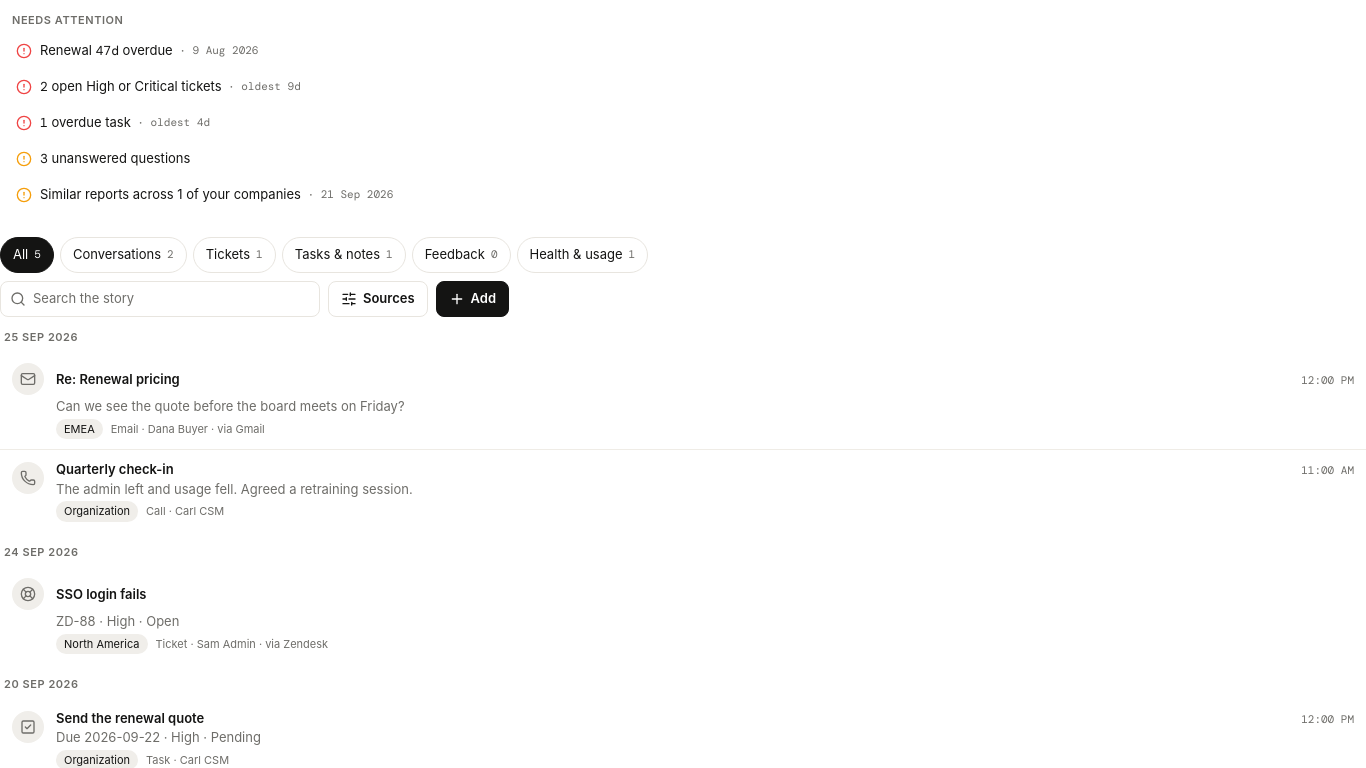
it: StoryTab (spec §1.6) › adds on the chosen account, closes the sheet, and says so
Click the button with aria-label "Add to the story" at x=472, y=298, box [436,280,509,316]
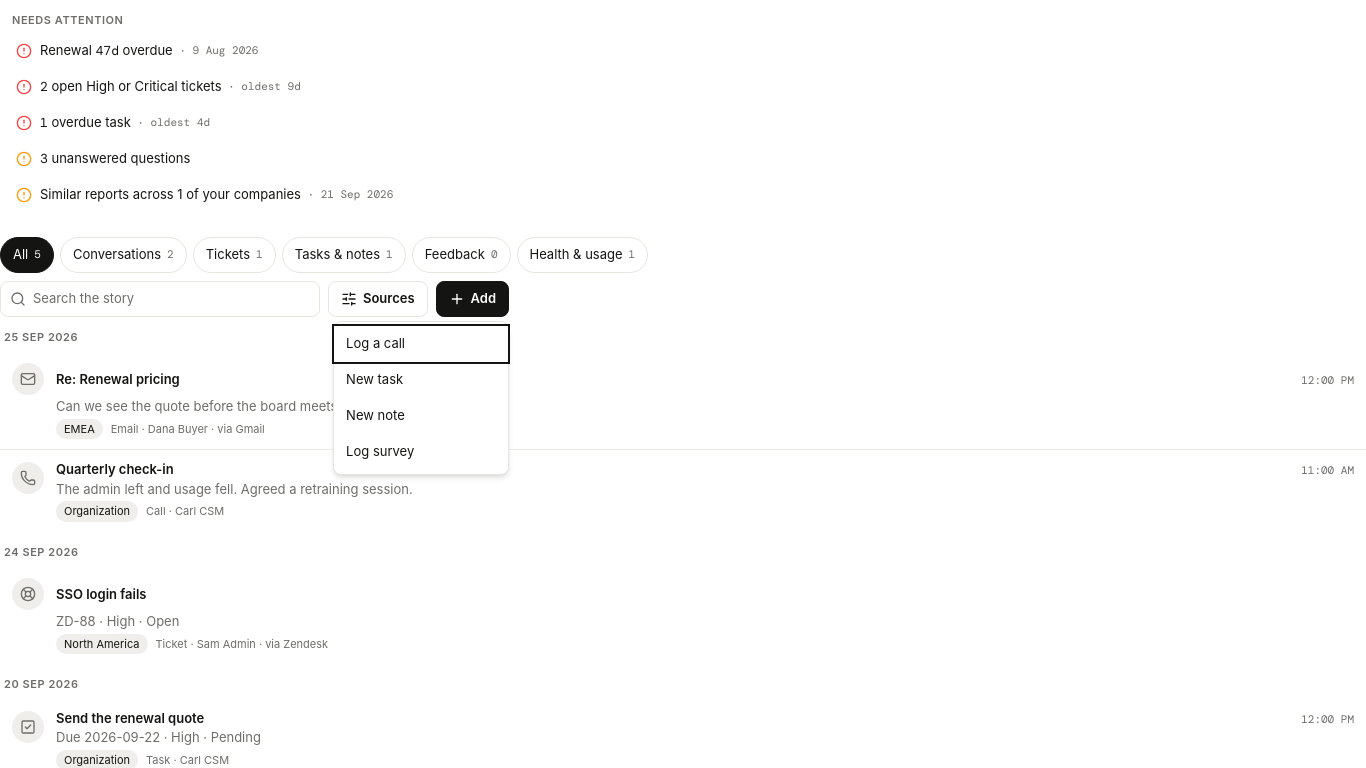
Click the menu item "New note" at x=421, y=416, box [334,398,508,434]
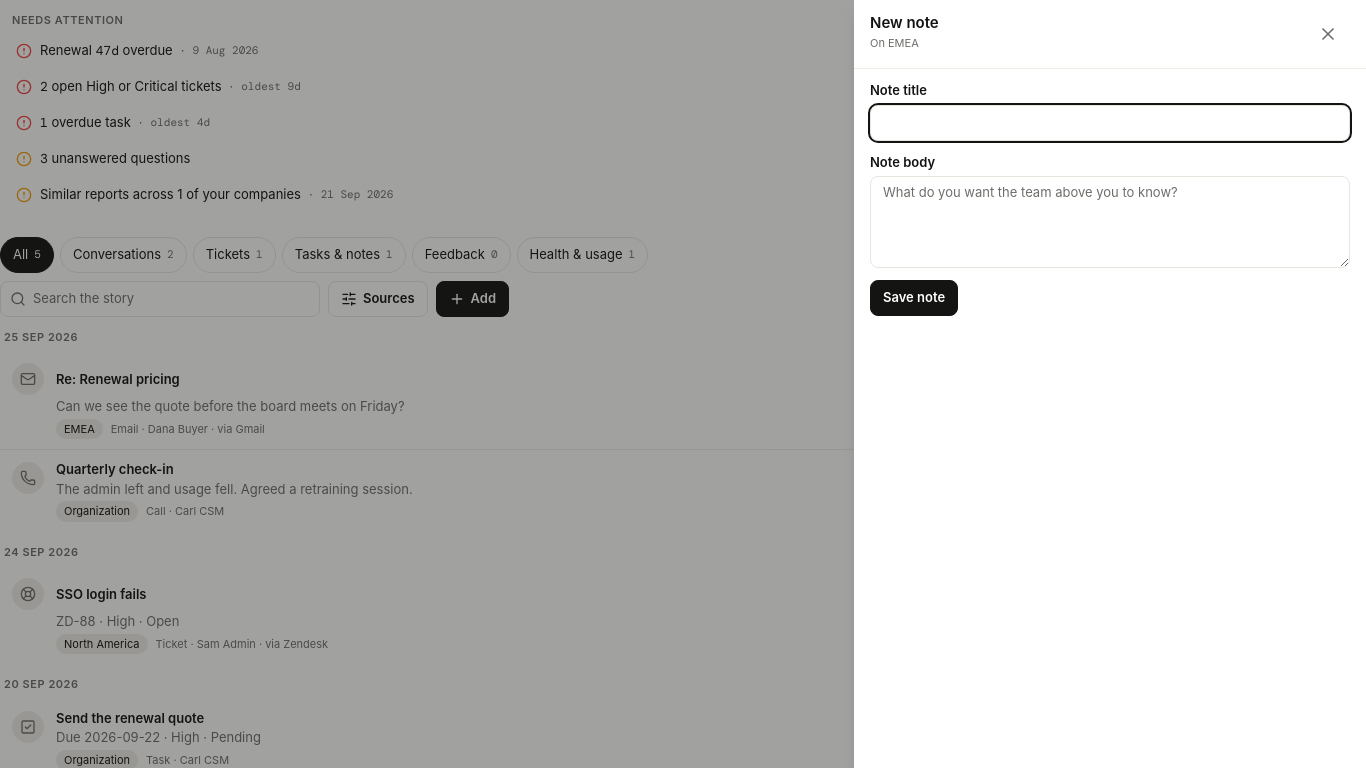
Type "Kickoff" into the field labelled "Note title" at x=1110, y=122, box [870,104,1350,140]
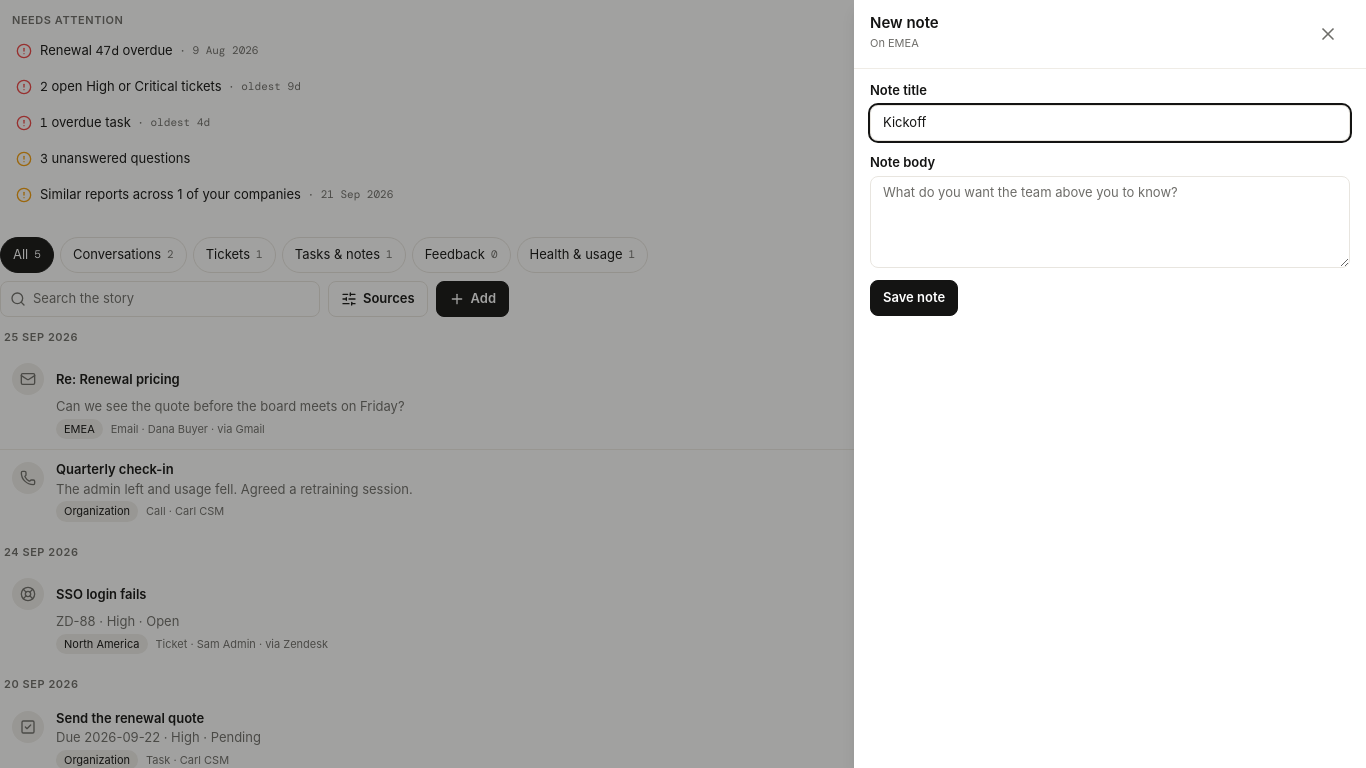
Type "Met the new admin." into the text box labelled "Note body" at x=1110, y=222, box [870,176,1350,268]
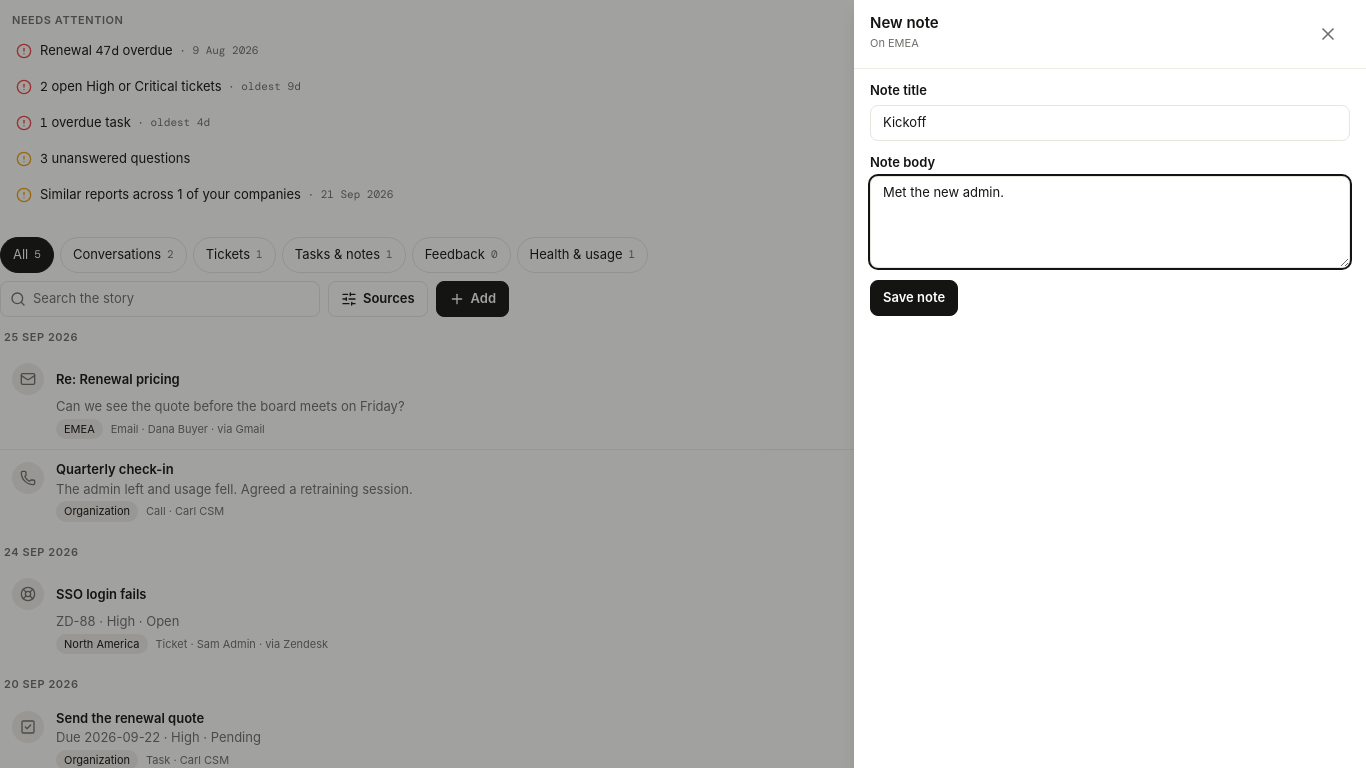
Click the button "Save note" at x=914, y=298, box [870,280,958,316]
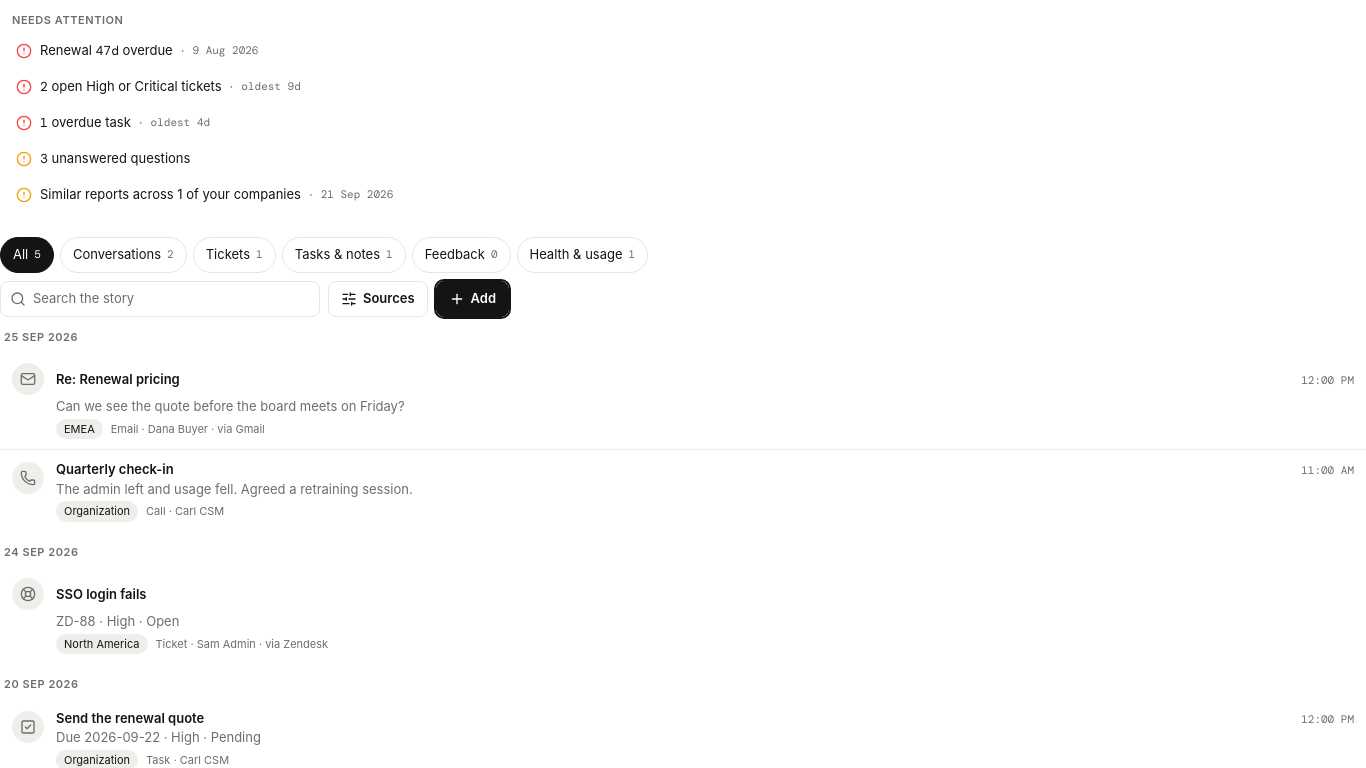
Result: the dialog is gone
